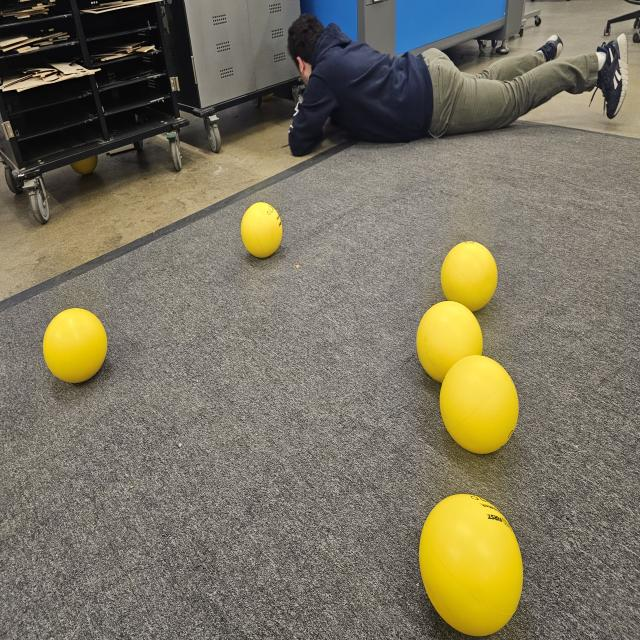Fuel: (419, 493, 524, 635), (441, 355, 518, 454), (417, 302, 483, 384), (43, 307, 108, 384), (442, 242, 498, 312), (242, 202, 284, 258)
